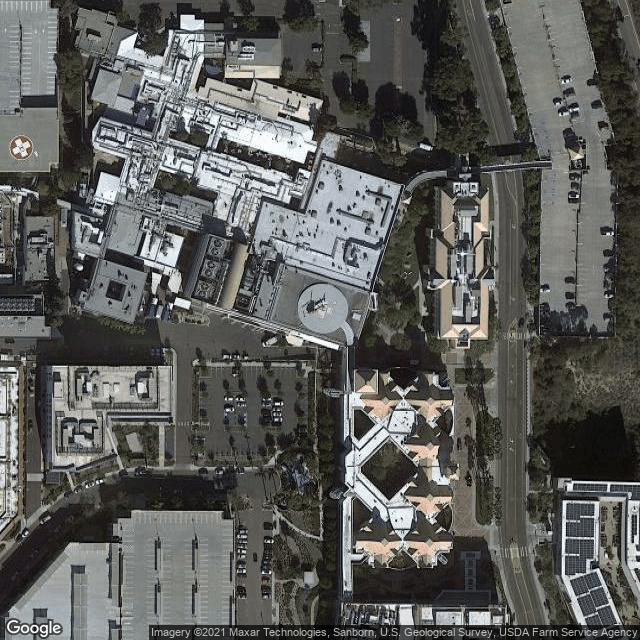Helipad: (296, 277, 352, 337), (5, 128, 37, 163)
